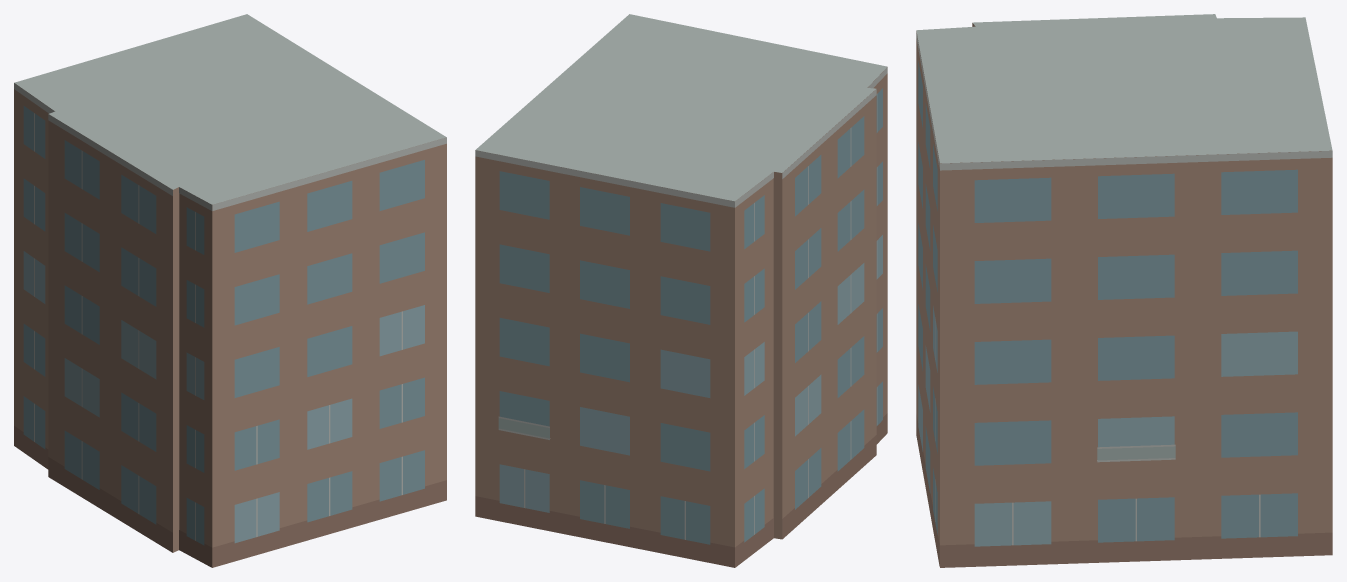
File: survey-upis-32728304.glb
3 views of the same model, side by side, from view 1: azimuth 30°, elevation 25°; view 2: azimuth 150°, elevation 25°; view 3: azimuth 270°, elevation 25° (orthographic). The views are drawn at different scales.
Parts seen in each view (by area): view 1: survey-upis-32728304.tmp; view 2: survey-upis-32728304.tmp; view 3: survey-upis-32728304.tmp.
Part boxes in pixels (x1,y1,x2,y2): survey-upis-32728304.tmp: (14, 14, 446, 567); survey-upis-32728304.tmp: (475, 14, 887, 567); survey-upis-32728304.tmp: (916, 14, 1332, 567).
Size of the model in its own units: 11.02 by 13.9 by 12.97.
